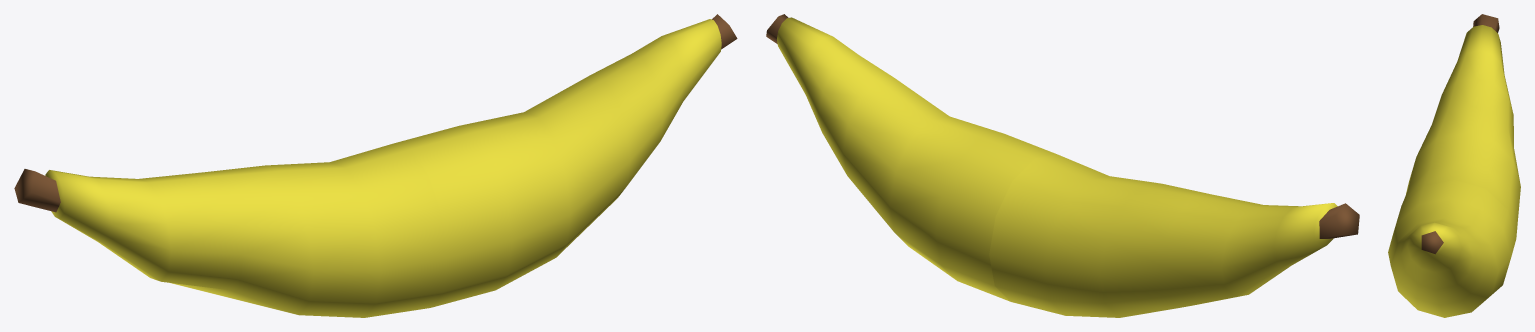
The model's file is banana.glb.
The picture shows the model from 3 angles, left to right: view 1: azimuth 30°, elevation 25°; view 2: azimuth 150°, elevation 25°; view 3: azimuth 270°, elevation 25°; orthographic projection. The views are drawn at different scales.
Visible parts, largest first — view 1: Banana_top_001, Banana_top_001.001; view 2: Banana_top_001, Banana_top_001.001; view 3: Banana_top_001.001, Banana_top_001.
Boxes of the visible parts, x1,y1,x2,y2 form: Banana_top_001: (14,143,446,317); Banana_top_001.001: (394,14,737,307); Banana_top_001: (989,154,1359,317); Banana_top_001.001: (766,14,1056,301); Banana_top_001.001: (1388,180,1516,317); Banana_top_001: (1401,14,1520,237).
Size of the model in its own units: 11.1 by 3.54 by 2.56.
